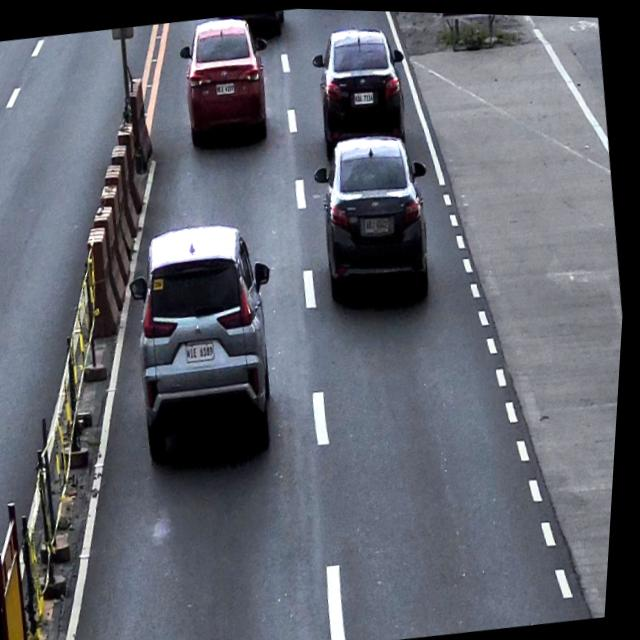Car: (117, 213, 300, 461), (305, 123, 448, 308), (305, 18, 419, 159), (171, 10, 282, 150)
License-Plate: (187, 339, 221, 364), (365, 211, 395, 233), (353, 87, 377, 104), (214, 79, 238, 95)
